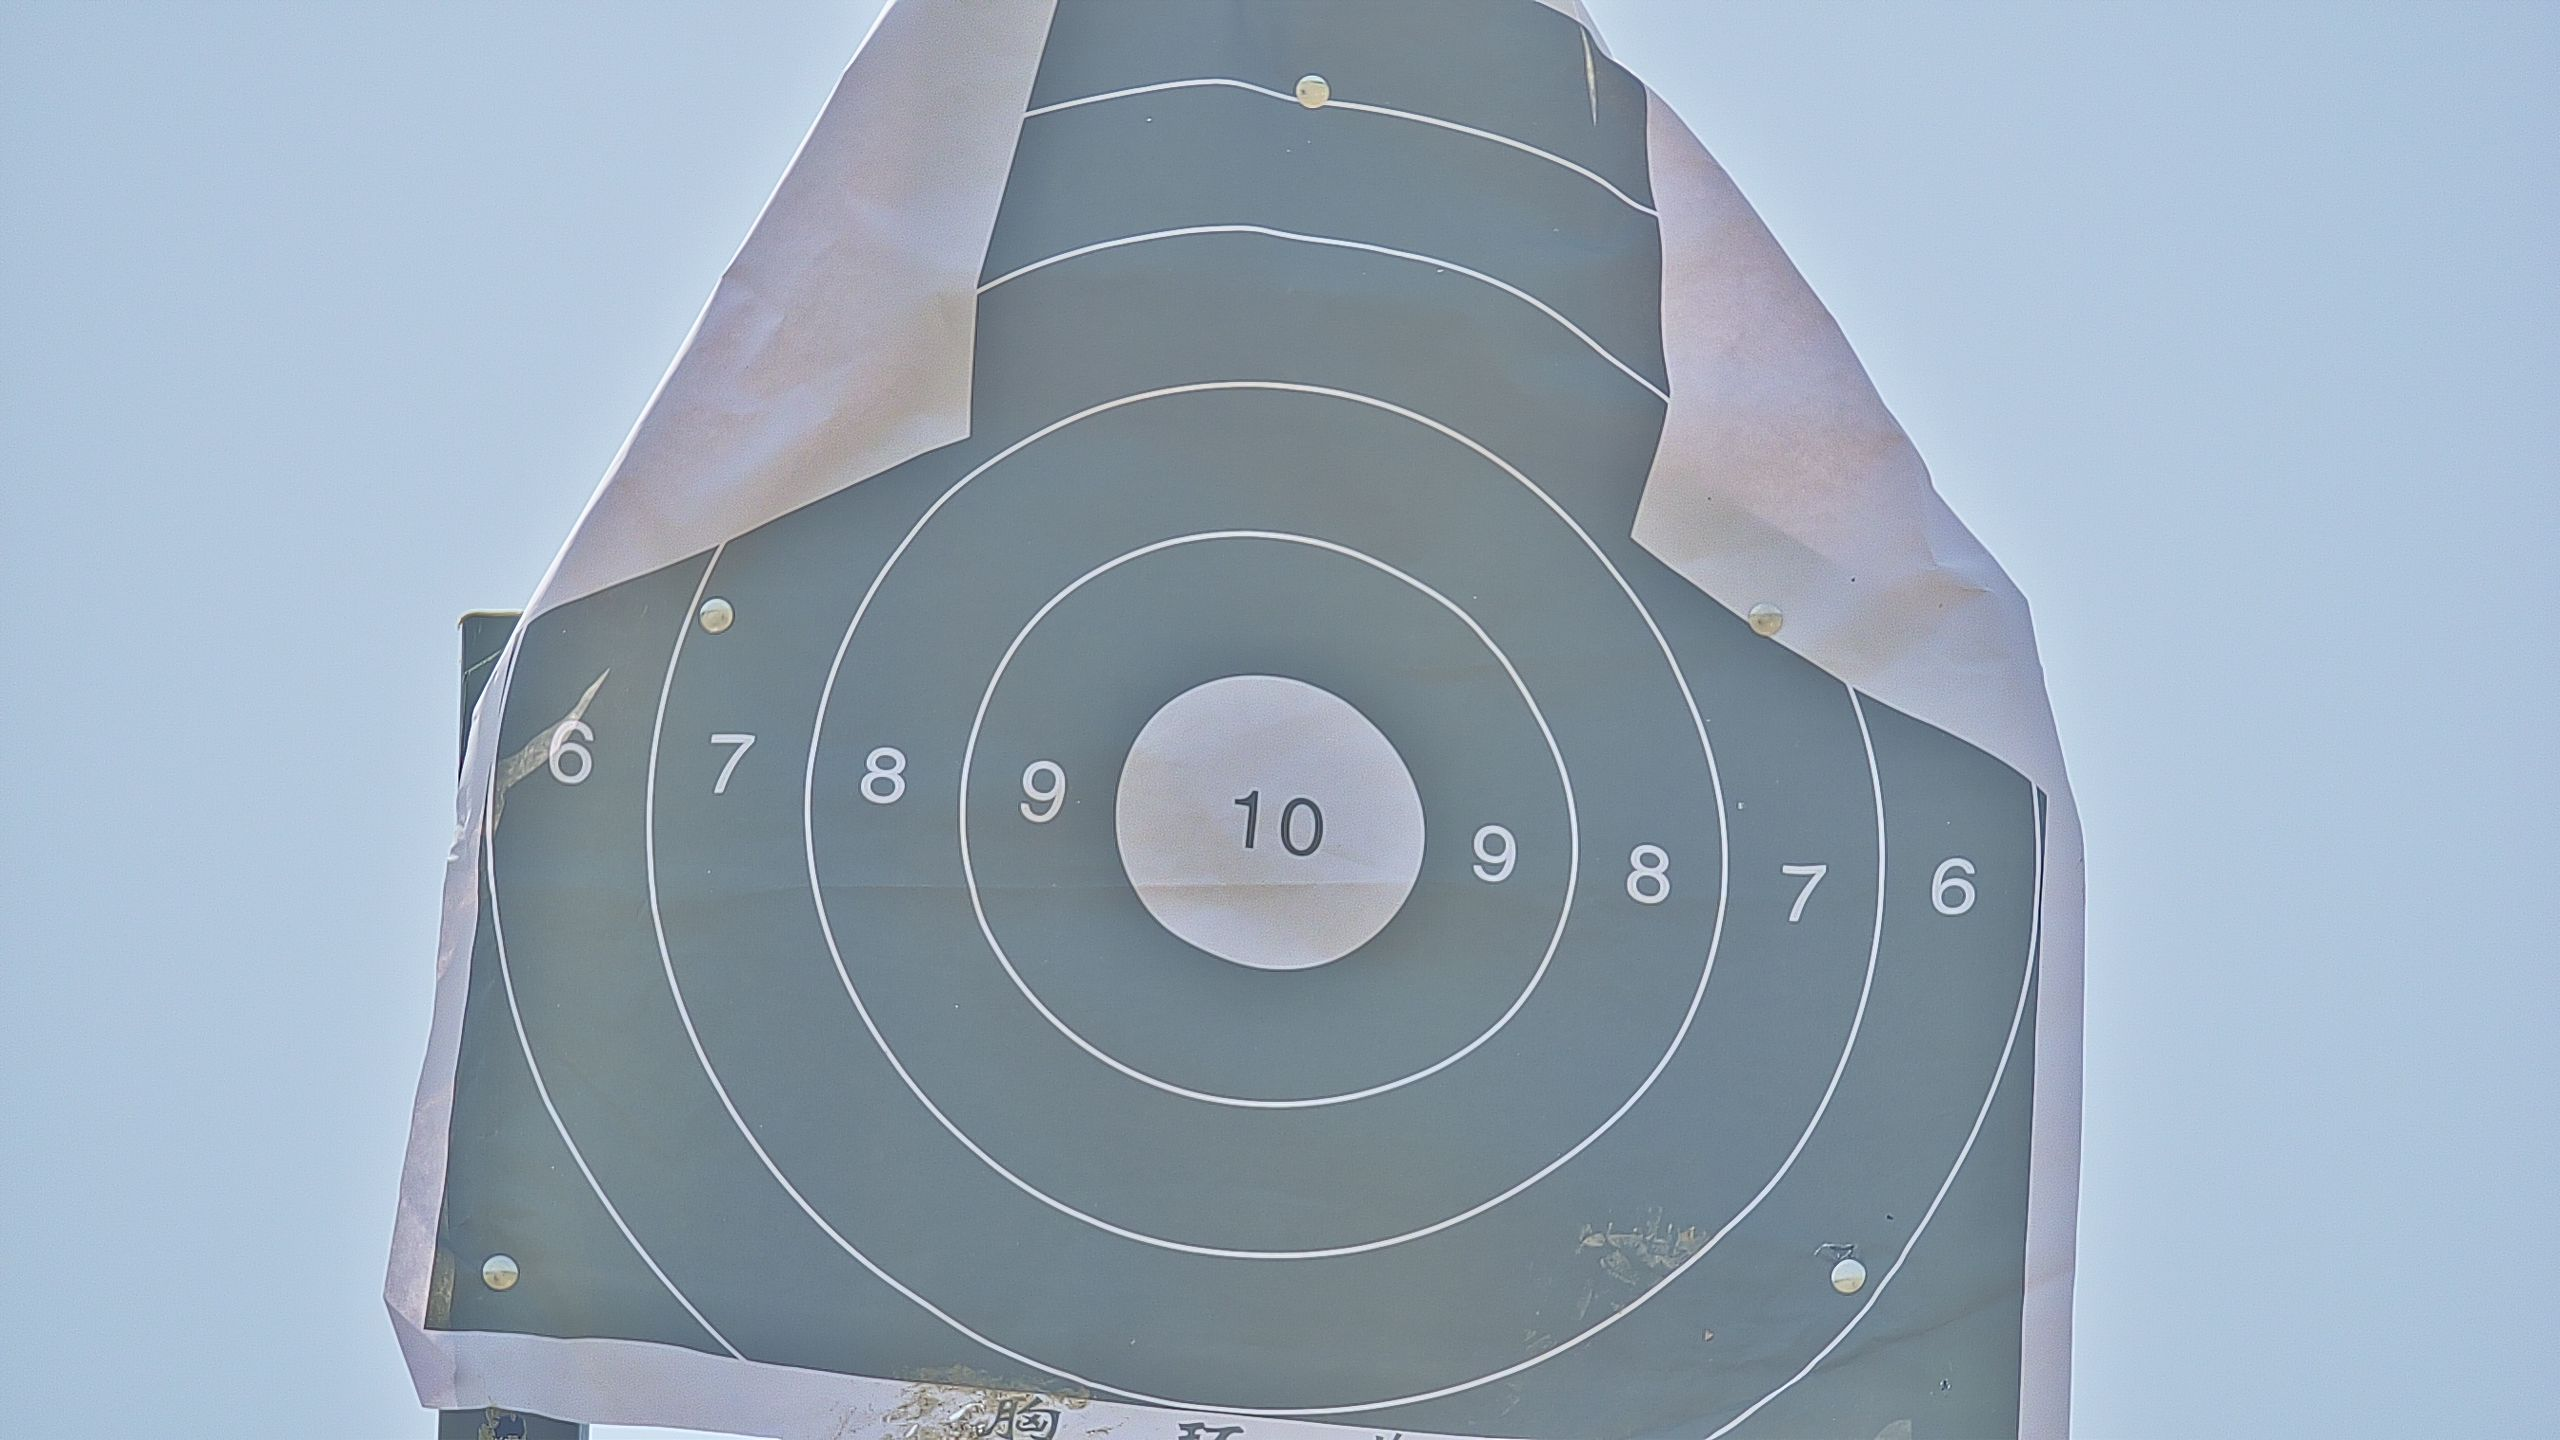kernel: (1268, 823, 1273, 825)
target: (417, 5, 2048, 1440)
ten: (1115, 672, 1424, 972)
